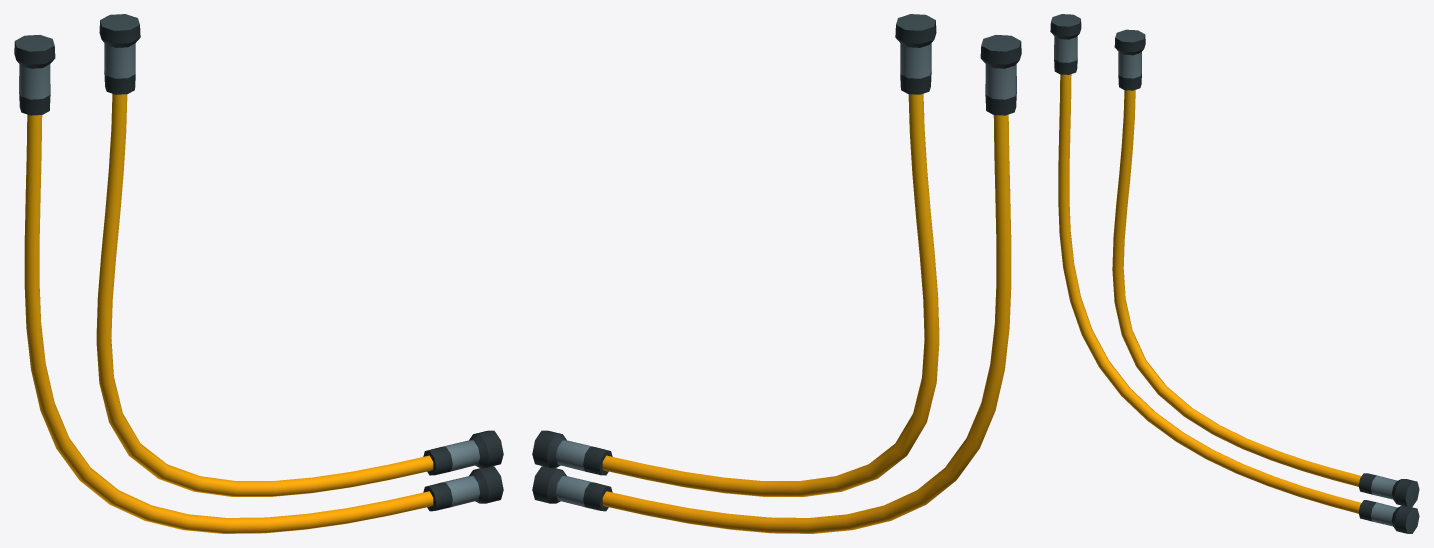
File: Cable_type_C_004.fbx
3 renders of one model, left to right at view 1: azimuth 30°, elevation 25°; view 2: azimuth 150°, elevation 25°; view 3: azimuth 330°, elevation 25°, orthographic. The views are drawn at different scales.
Parts seen in each view (by area): view 1: Cable_type_C_004; view 2: Cable_type_C_004; view 3: Cable_type_C_004.
Boxes of the visible parts, x1,y1,x2,y2 form: Cable_type_C_004: (14, 14, 503, 533); Cable_type_C_004: (532, 14, 1021, 533); Cable_type_C_004: (1050, 14, 1419, 533).
Size of the model in its own units: 116 by 8.91 by 132.
